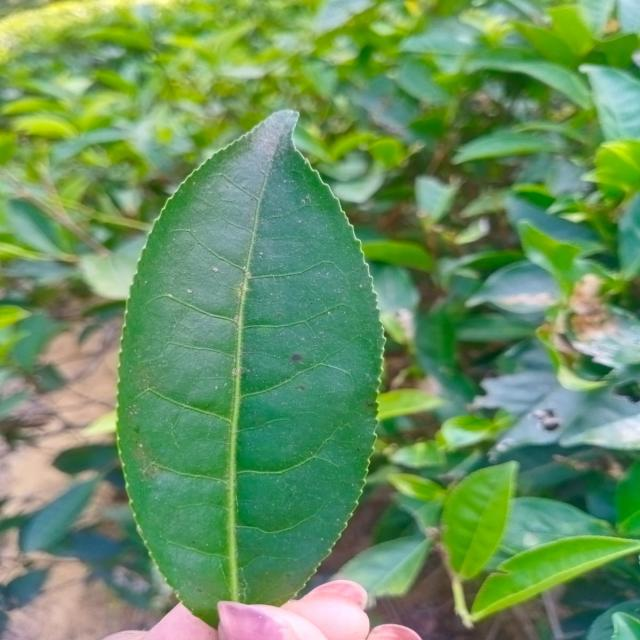Category D 7+ days, Not for Tea: (96, 93, 401, 640)
